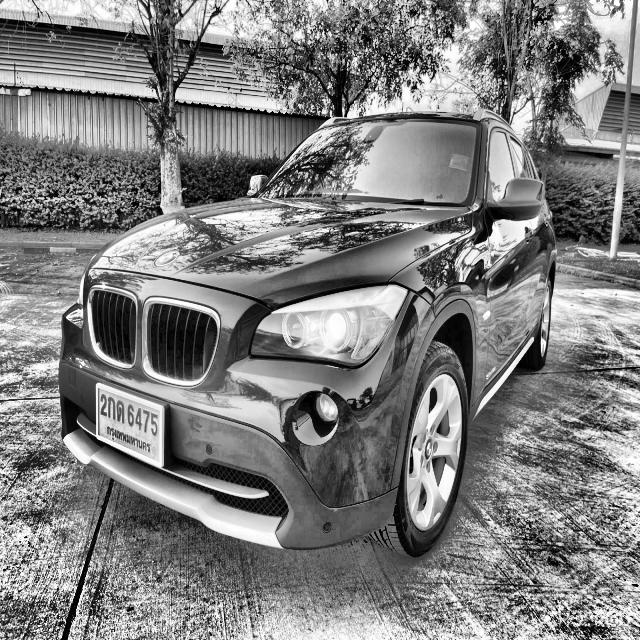license-plate: (93, 378, 167, 471)
